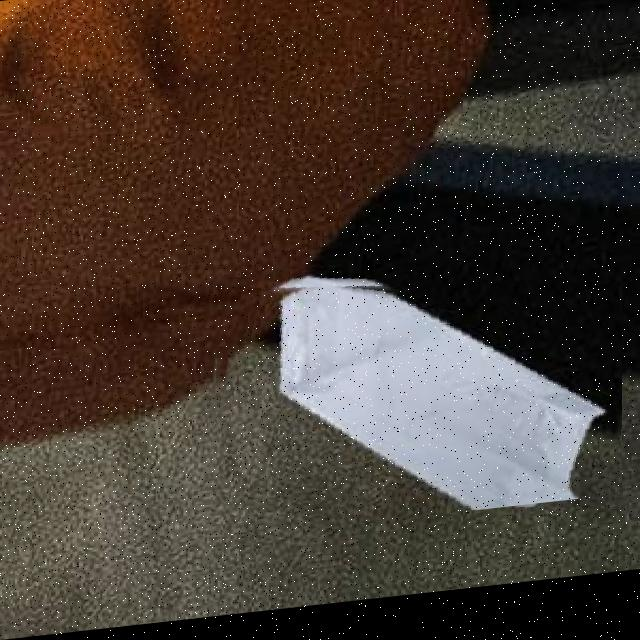plasticcover: (204, 259, 622, 544)
